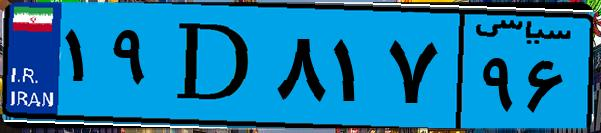1: (330, 28, 385, 110), (57, 26, 110, 100)
6: (525, 38, 570, 115)
7: (385, 28, 445, 110)
8: (270, 28, 330, 110)
9: (475, 38, 525, 113), (110, 28, 158, 98)
D: (158, 12, 270, 120)
